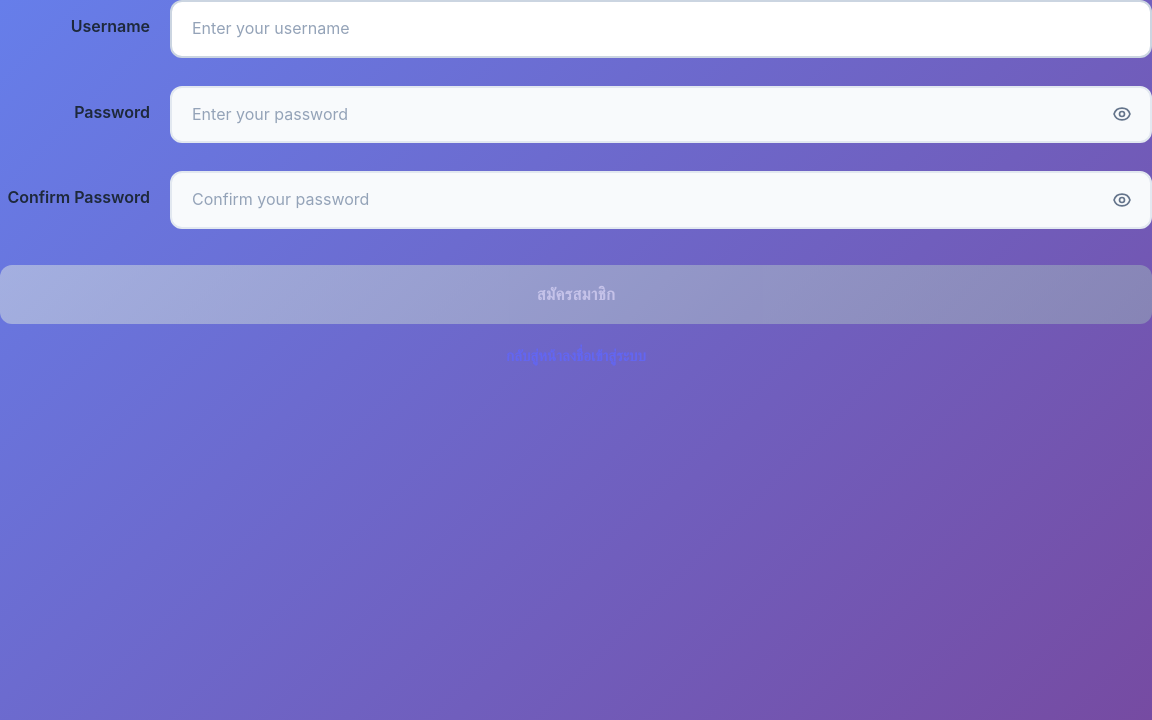
Test: RegisterForm › validates password confirmation
This screenshot has width=1152, height=720.
Type "testuser" into the field with id "register-username". click: (661, 29)
box: [170,0,1151,58]
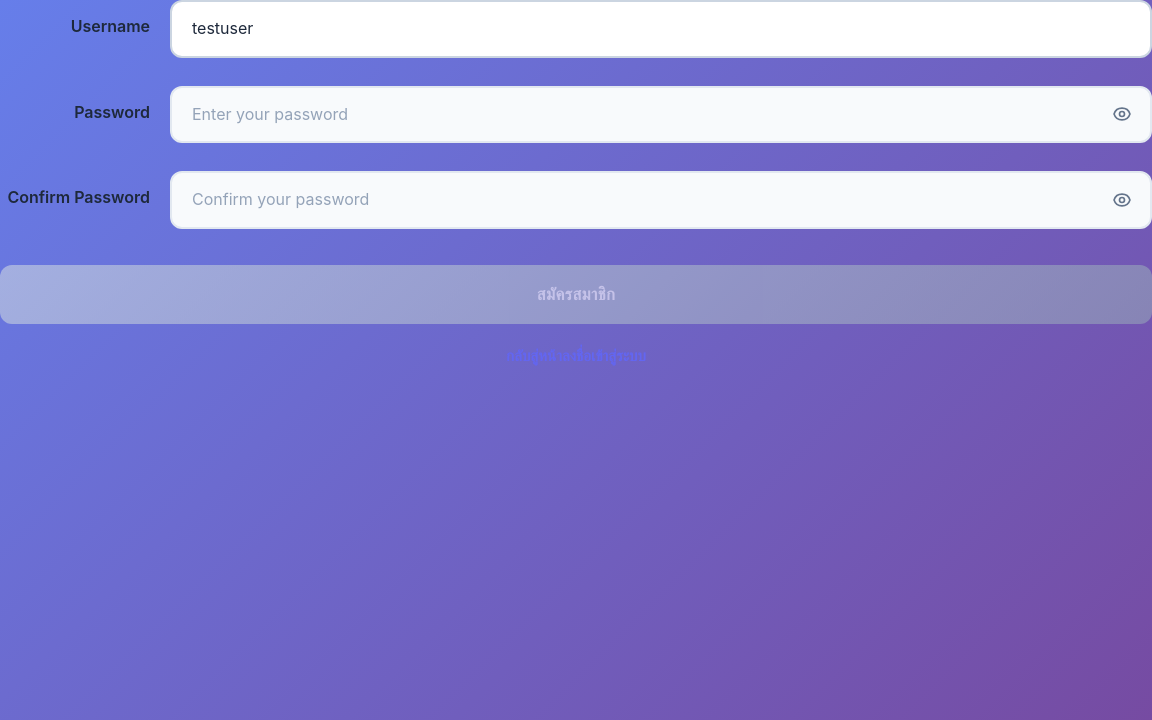
Type "password123" into the password field with id "register-password". click: (661, 114)
box: [170,86,1151,143]
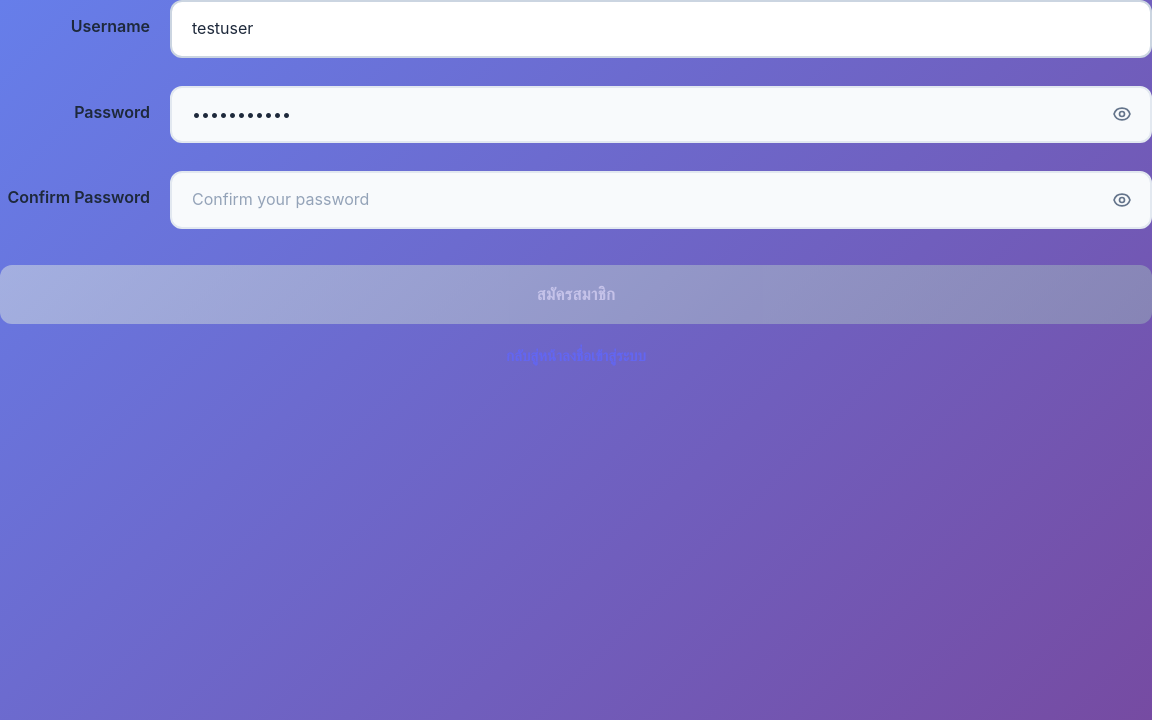
Type "password456" into the password field with id "register-confirm-password". click: (661, 200)
box: [170,171,1151,229]
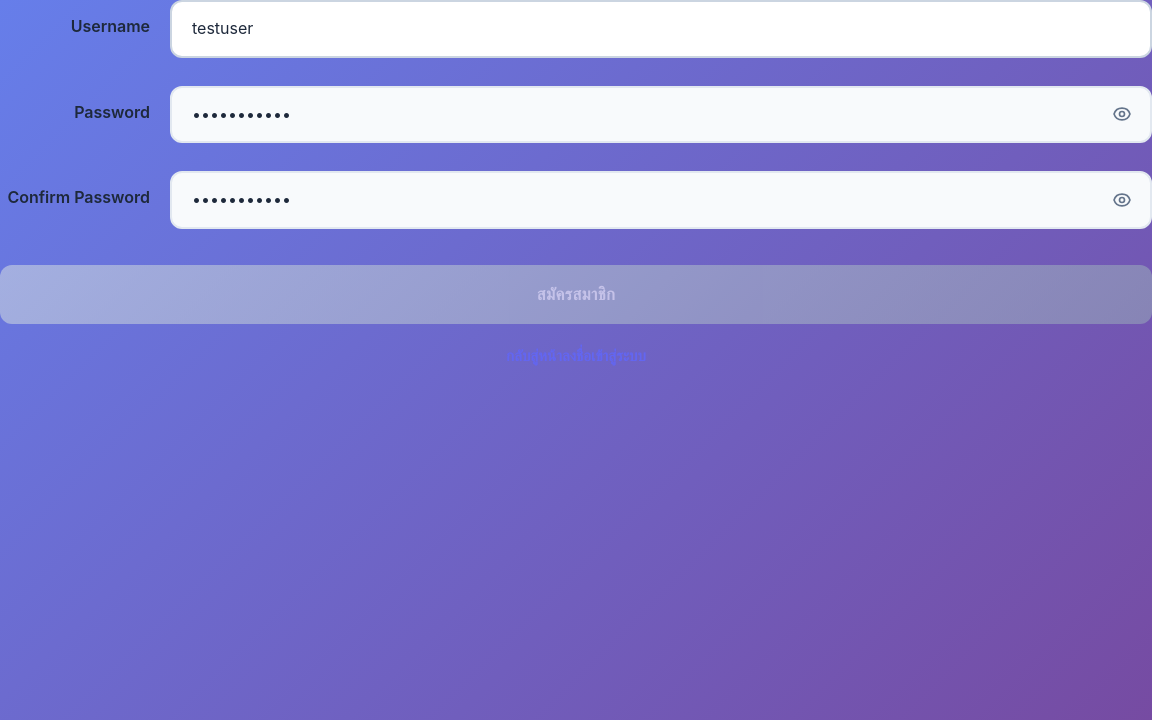
Submit the form, box [0,0,1151,368]
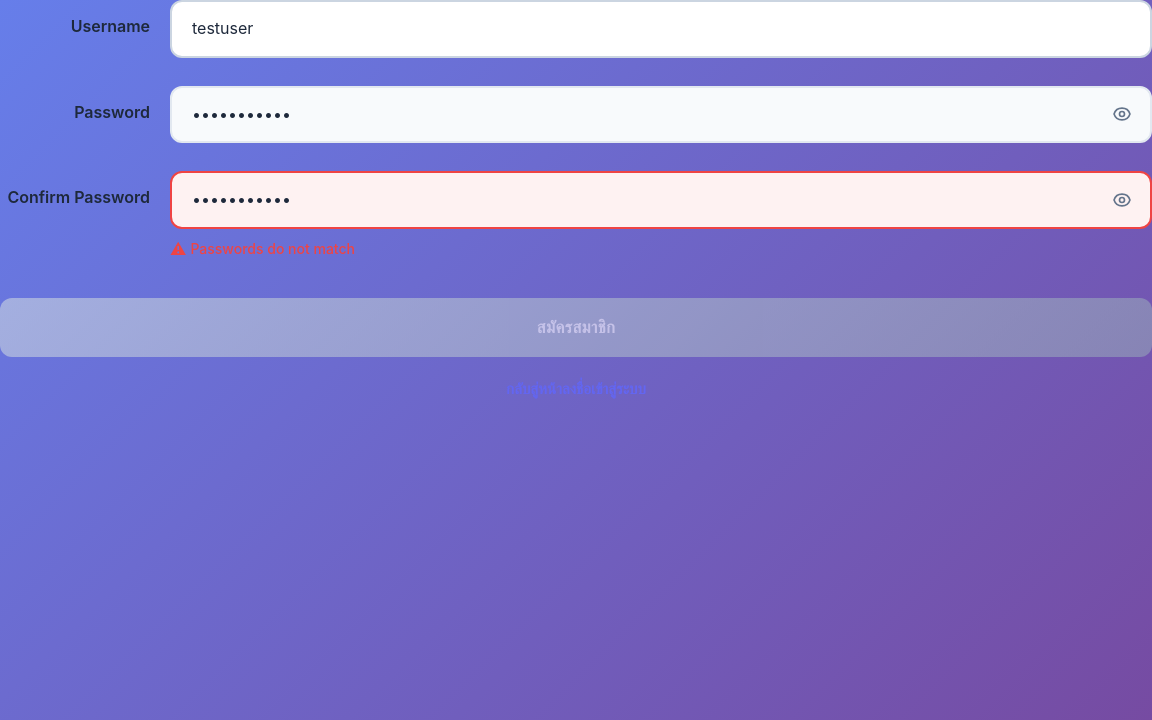
Check: the text "Passwords do not match" is shown, box [190,240,355,257]
